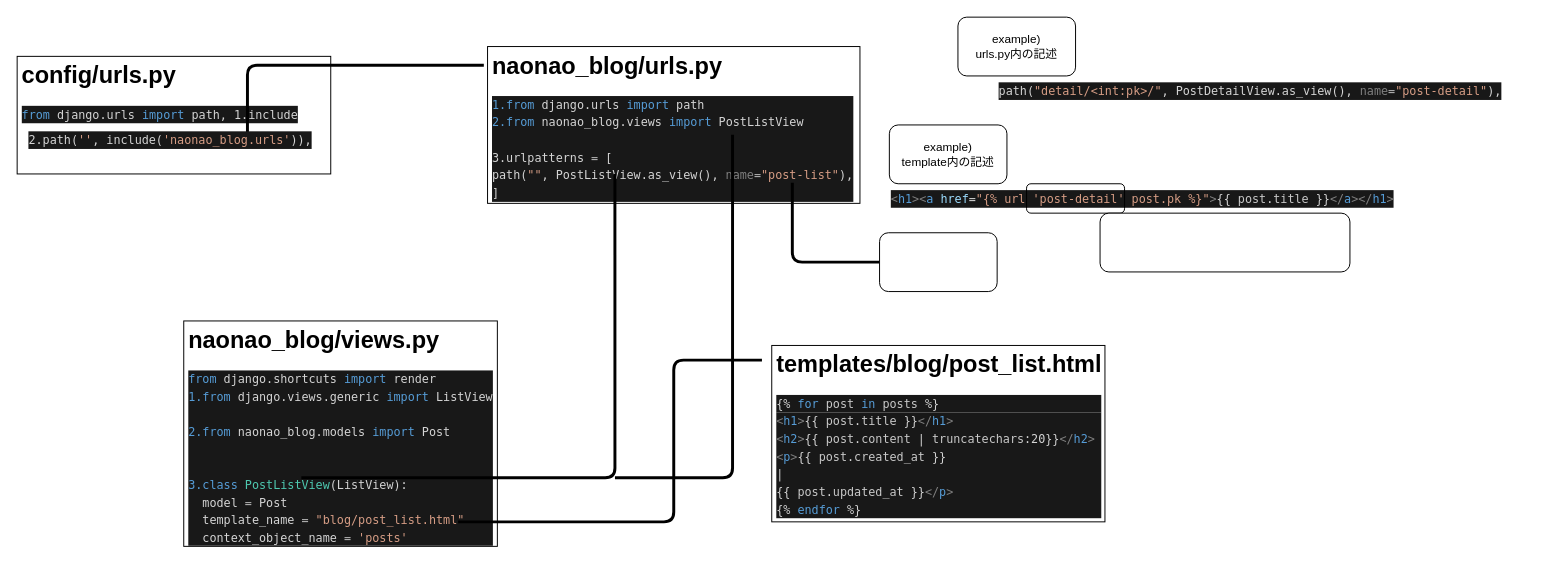
Some shapes in this 1553 by 564 pixel diagram are drawn without their labels. Here are the shapes that lost their labels. From the top down, the centre of each, then its label:
point (938, 262): templatesでpage遷移するときに使用する
point (1224, 242): 第一引数:urls.pyのname=" " 第二引数:プライマリキー
